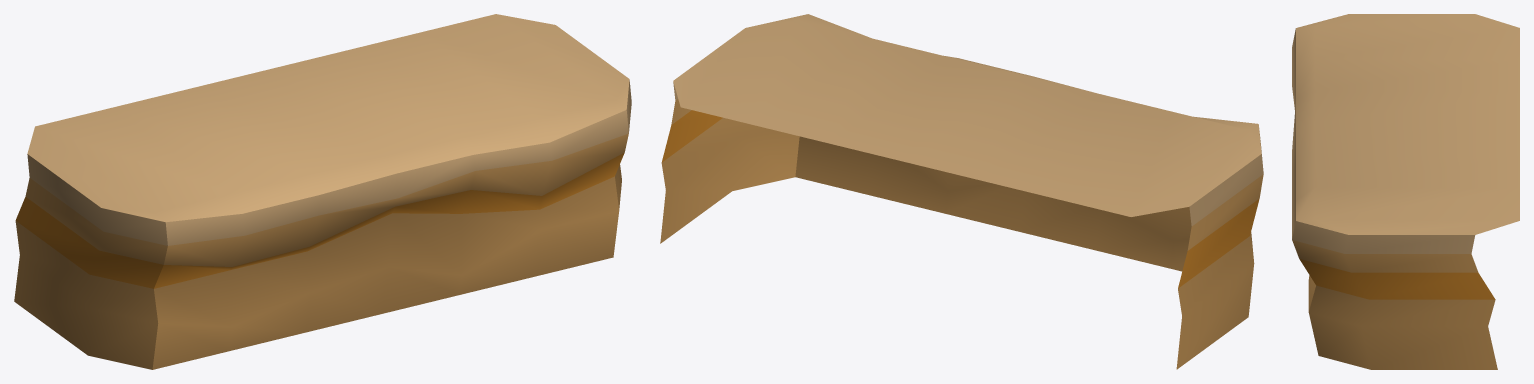
Rendered from WallClosed.fbx.
3 renders of one model, left to right at view 1: azimuth 30°, elevation 25°; view 2: azimuth 150°, elevation 25°; view 3: azimuth 270°, elevation 25°, orthographic. The views are drawn at different scales.
Visible parts, largest first — view 1: WallClosed; view 2: WallClosed; view 3: WallClosed.
Boxes of the visible parts, <box> form: WallClosed: <box>14,14,631,369</box>; WallClosed: <box>660,14,1263,369</box>; WallClosed: <box>1292,14,1519,369</box>.
Bounding box in the file's own units: 1375 × 396 × 599.
